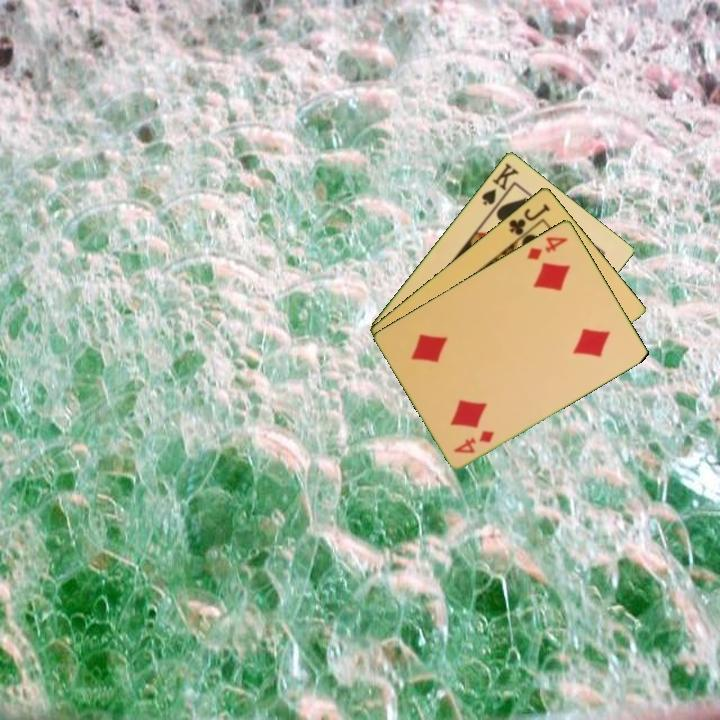4d: (523, 232, 571, 263), (450, 426, 497, 456)
Jc: (505, 200, 553, 238)
Ks: (478, 159, 522, 208)
